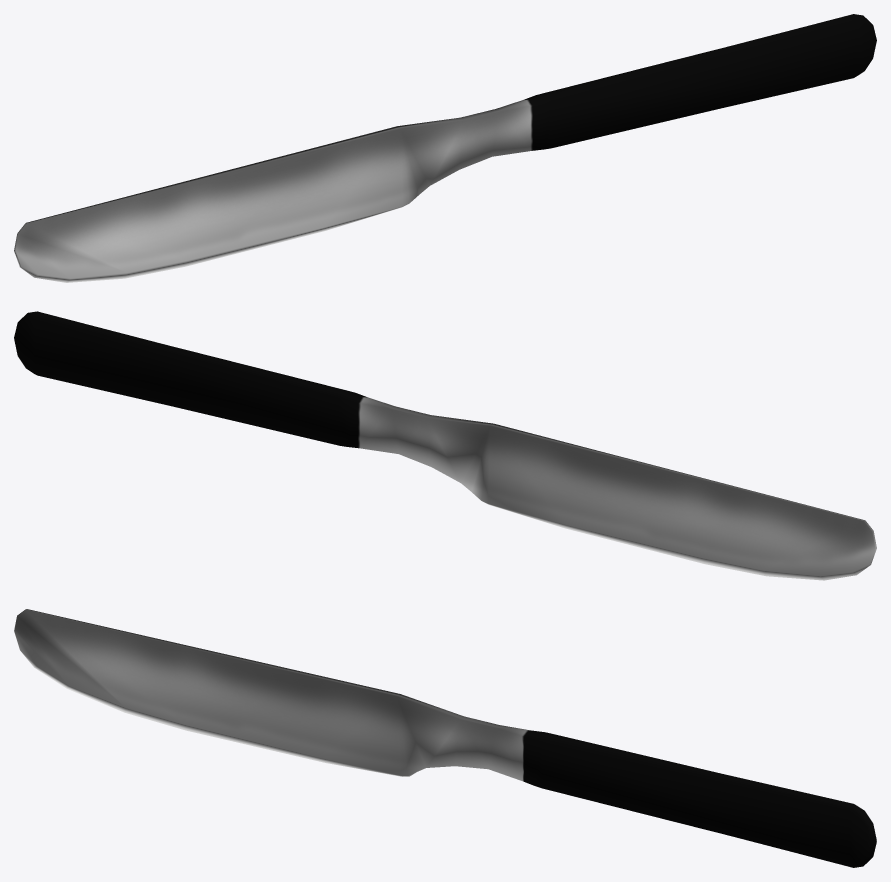
The model's file is Knife.fbx.
3 views of the same model, one above another, from view 1: azimuth 30°, elevation 25°; view 2: azimuth 150°, elevation 25°; view 3: azimuth 330°, elevation 25° (orthographic).
Visible parts, largest first — view 1: Mesh; view 2: Mesh; view 3: Mesh.
Part boxes in pixels (box(x1,y1,x2,y2)): Mesh: box(14, 14, 876, 282); Mesh: box(14, 311, 876, 580); Mesh: box(14, 609, 876, 867).
Size of the model in its own units: 169 by 16.8 by 3.27.
Materials: 1 (1 with a texture image).
